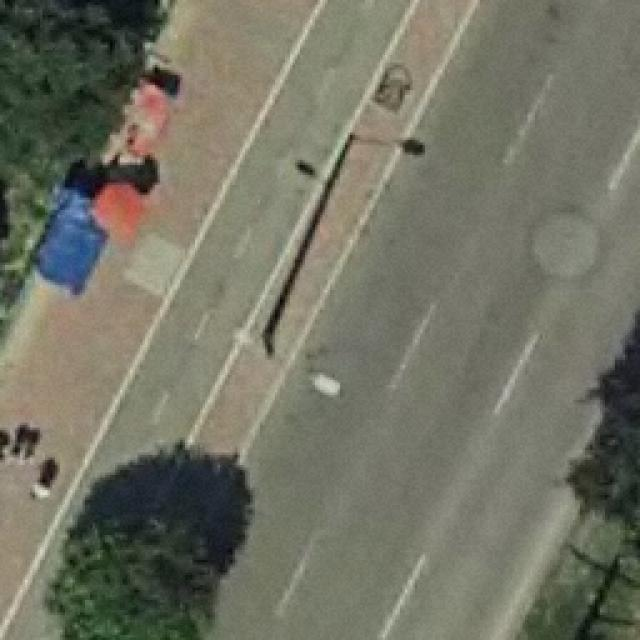vendedor_ambulante: (85, 180, 154, 240)
